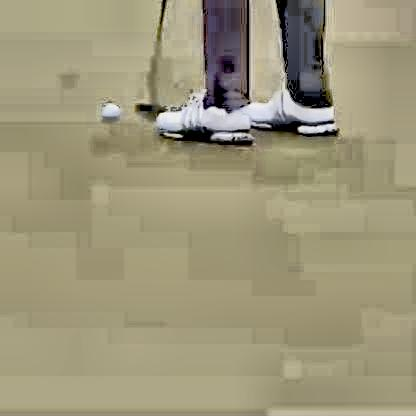golfball: (98, 100, 118, 118)
